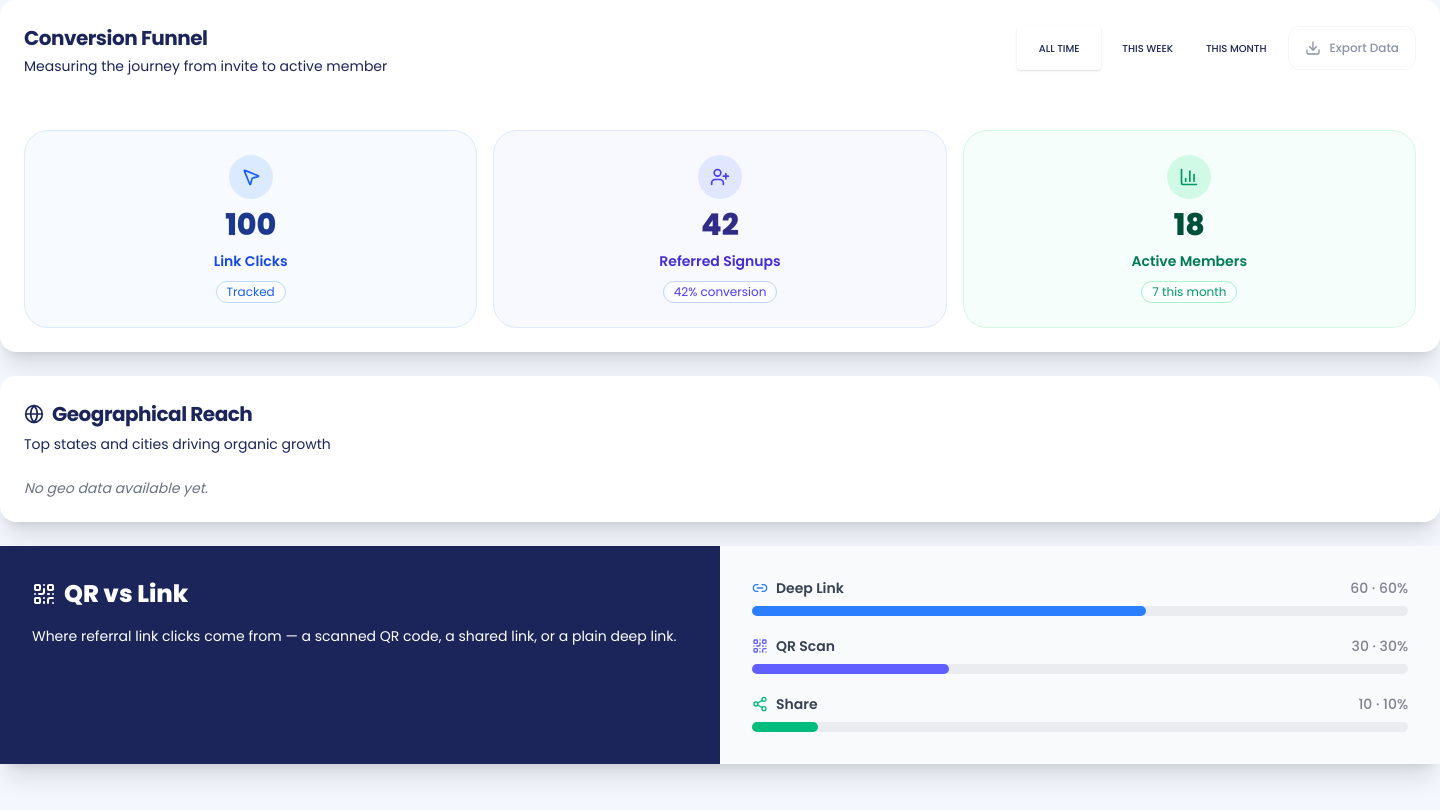
Test: ReferralAnalytics source breakdown card › refetches period-scoped stats when the period toggle changes
Expected: the text "Deep Link" is shown, [752,578,844,598]
Click the button "THIS WEEK": [1148, 48] box [1105,26,1190,70]
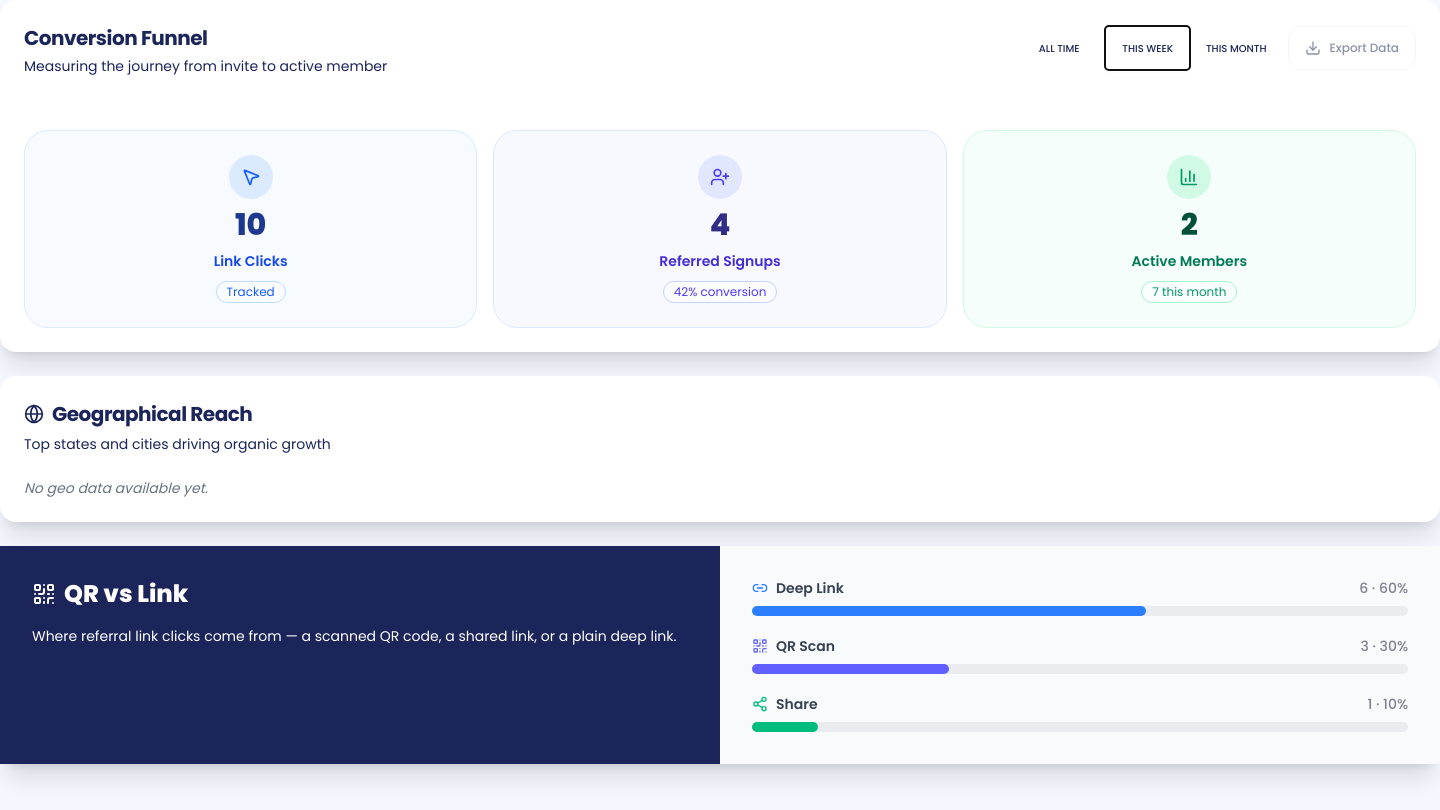
Now the text "6 · 60%" is shown, box [1359,578,1408,598]
Now the text "3 · 30%" is shown, box [1360,636,1408,656]
